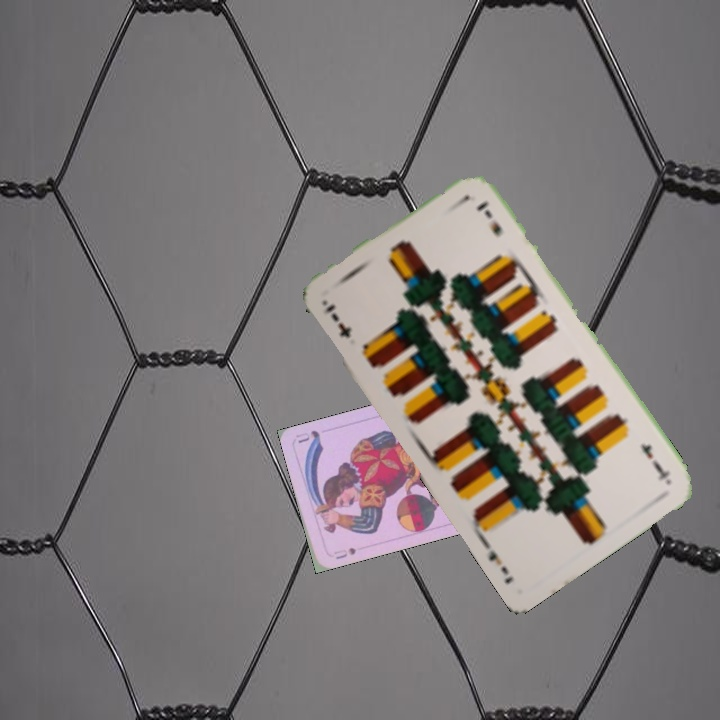E7: (636, 439, 673, 485), (321, 299, 355, 341)
SU: (331, 543, 359, 562)
